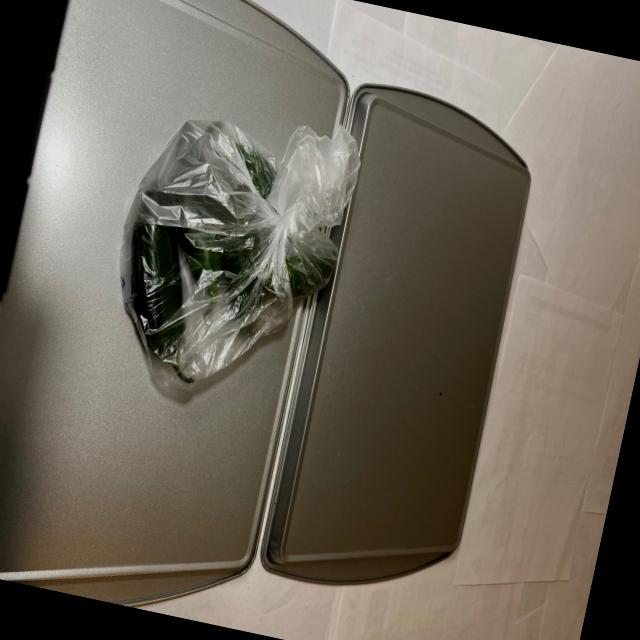chilli: (109, 117, 360, 410)
